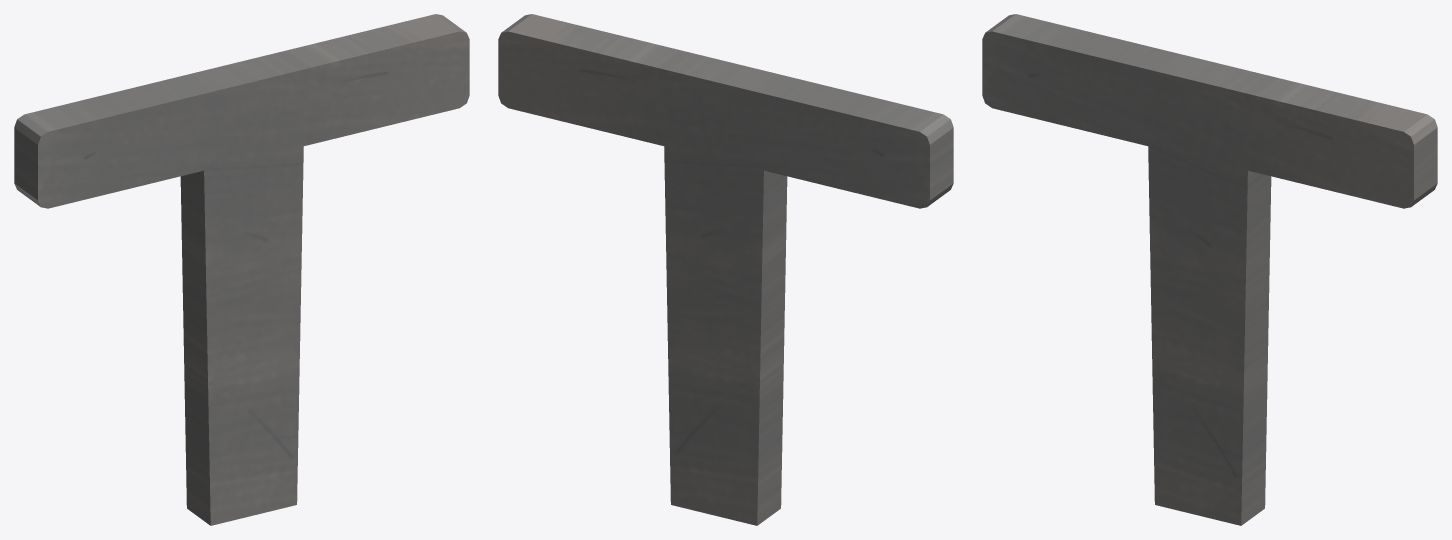
The model's file is Tisch.obj.
3 renders of one model, left to right at view 1: azimuth 30°, elevation 25°; view 2: azimuth 150°, elevation 25°; view 3: azimuth 330°, elevation 25°, orthographic.
Parts seen in each view (by area): view 1: Tisch; view 2: Tisch; view 3: Tisch.
Boxes of the visible parts, left/top/right/bottom form: Tisch: left=14, top=14, right=469, bottom=525; Tisch: left=498, top=14, right=953, bottom=525; Tisch: left=982, top=14, right=1437, bottom=525.
Size of the model in its own units: 10 by 9.6 by 0.9569.
